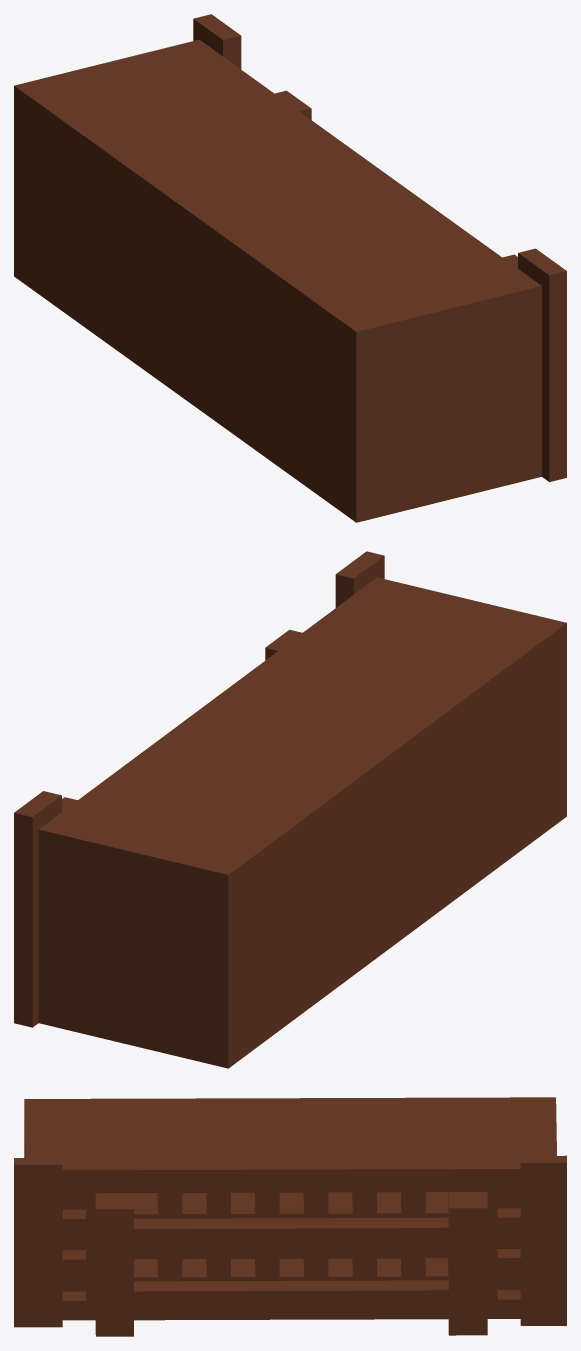
File: bulding3.fbx
The picture shows the model from 3 angles, top to bottom: view 1: azimuth 30°, elevation 25°; view 2: azimuth 150°, elevation 25°; view 3: azimuth 270°, elevation 25°; orthographic projection. The views are drawn at different scales.
Parts seen in each view (by area): view 1: Cube.006; view 2: Cube.006; view 3: Cube.006.
Boxes of the visible parts, box(x1,y1,x2,y2) form: Cube.006: box(14, 14, 566, 522); Cube.006: box(14, 551, 566, 1068); Cube.006: box(14, 1097, 566, 1336).
Bounding box in the file's own units: 9354 × 3043 × 3571.
